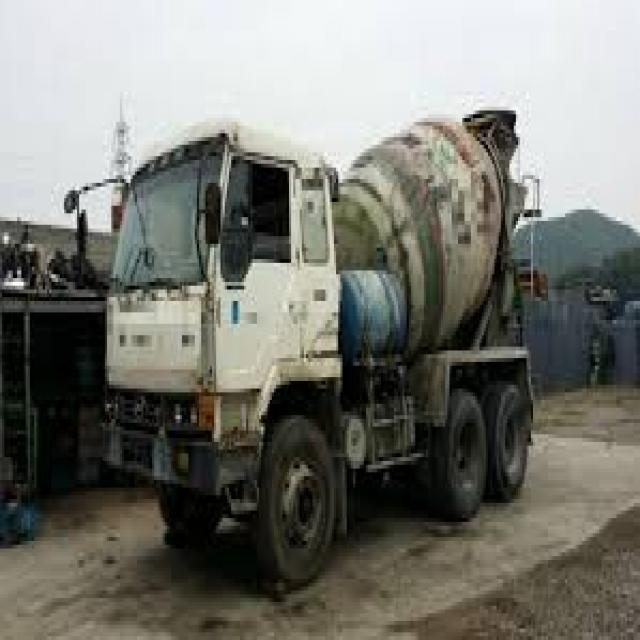Mixer Truck: (61, 98, 548, 596)
